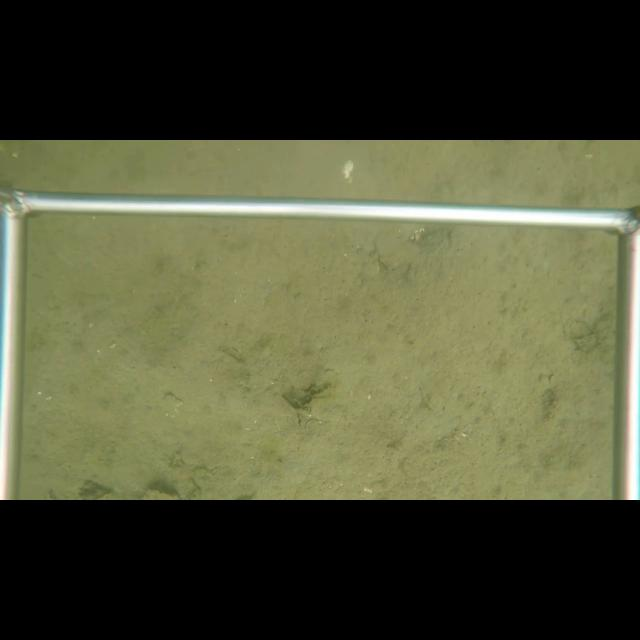Oyster-Closed: (373, 227, 426, 269)
